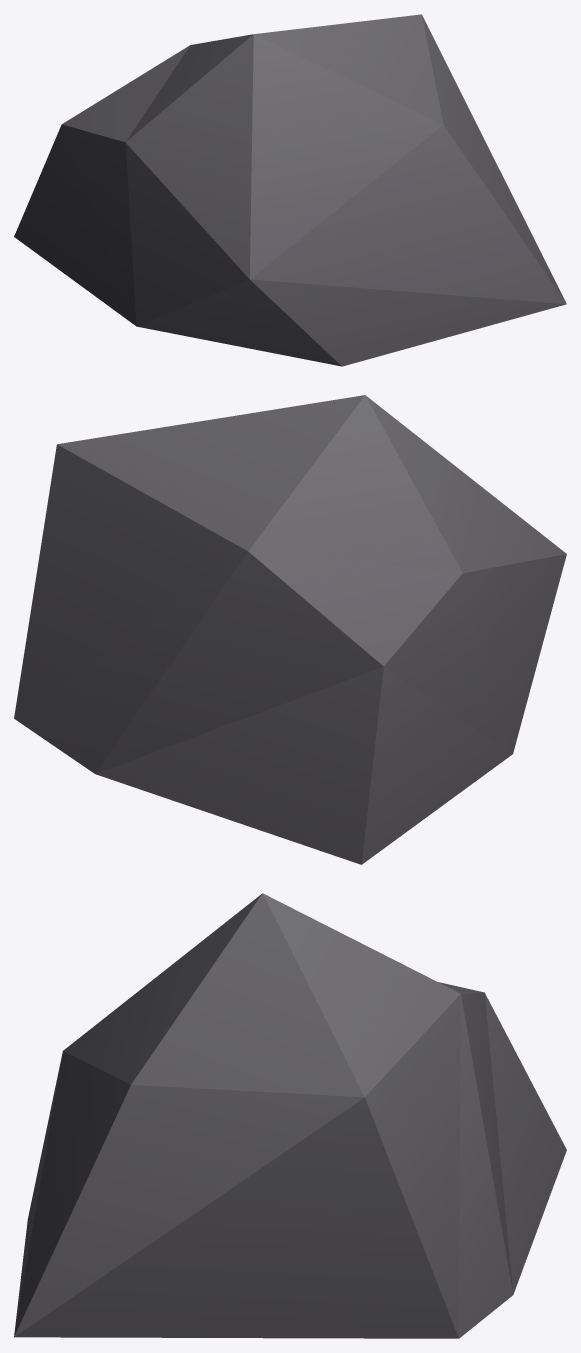
File: Mesh_Nature_Rock_03.FBX
3 renders of one model, top to bottom at view 1: azimuth 30°, elevation 25°; view 2: azimuth 150°, elevation 25°; view 3: azimuth 270°, elevation 25°, orthographic. The views are drawn at different scales.
Visible parts, largest first — view 1: Mesh_Nature_Rock_03; view 2: Mesh_Nature_Rock_03; view 3: Mesh_Nature_Rock_03.
Boxes of the visible parts, bbox=[...] form: Mesh_Nature_Rock_03: bbox=[14, 14, 566, 366]; Mesh_Nature_Rock_03: bbox=[14, 395, 566, 864]; Mesh_Nature_Rock_03: bbox=[14, 893, 566, 1338].
Bounding box in the file's own units: 34.91 × 26.35 × 40.1.
